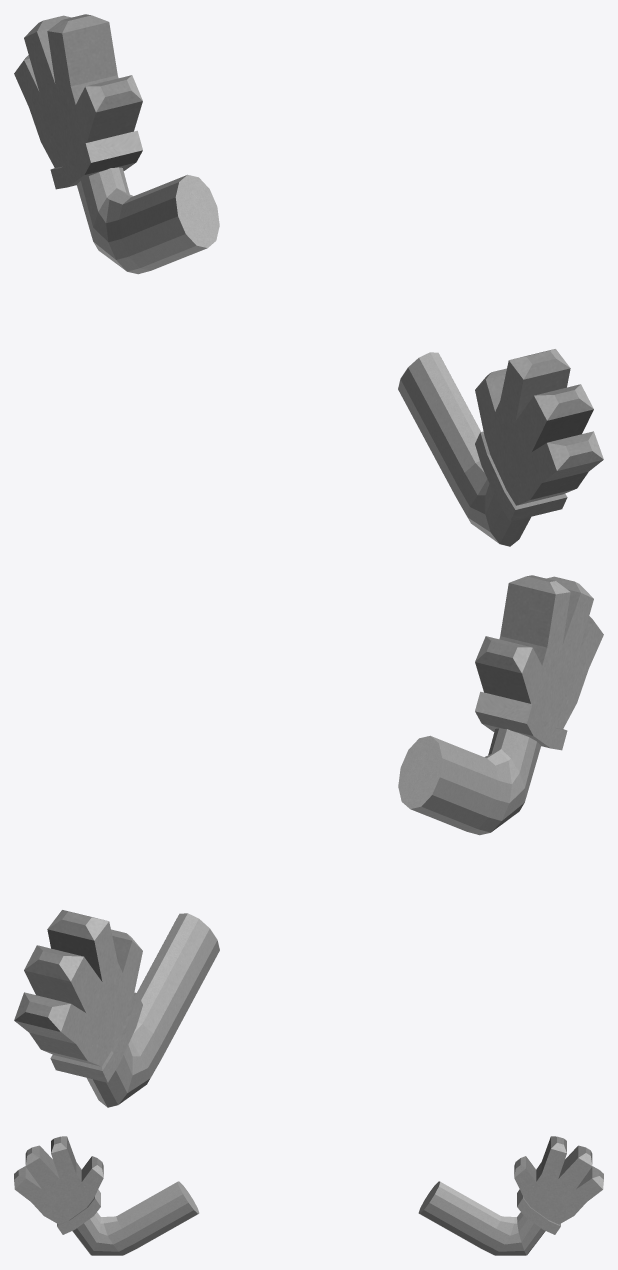
File: Arms.fbx
3 views of the same model, one above another, from view 1: azimuth 30°, elevation 25°; view 2: azimuth 150°, elevation 25°; view 3: azimuth 270°, elevation 25° (orthographic). The views are drawn at different scales.
Visible parts, largest first — view 1: Mano_Izq; view 2: Mano_Izq; view 3: Mano_Izq.
Boxes of the visible parts, <box> form: Mano_Izq: <box>14,14,603,546</box>; Mano_Izq: <box>14,575,603,1107</box>; Mano_Izq: <box>14,1136,603,1255</box>.
Size of the model in its own units: 19.91 by 78 by 360.
